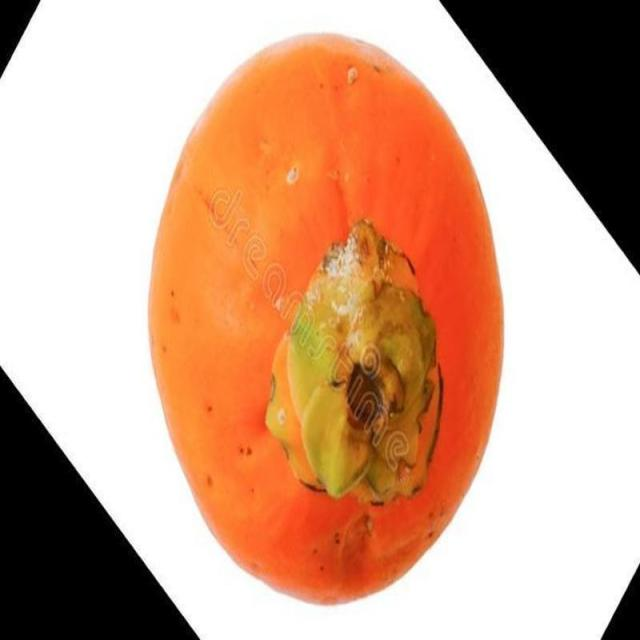good: (140, 34, 507, 611)
